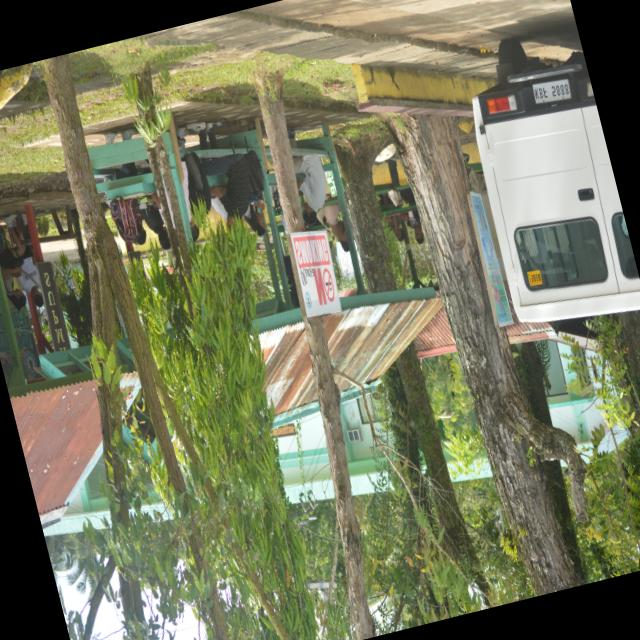person: (202, 152, 249, 224), (0, 213, 26, 308), (293, 154, 327, 223), (18, 244, 44, 306), (141, 203, 170, 249), (244, 196, 266, 235), (405, 207, 424, 242)
